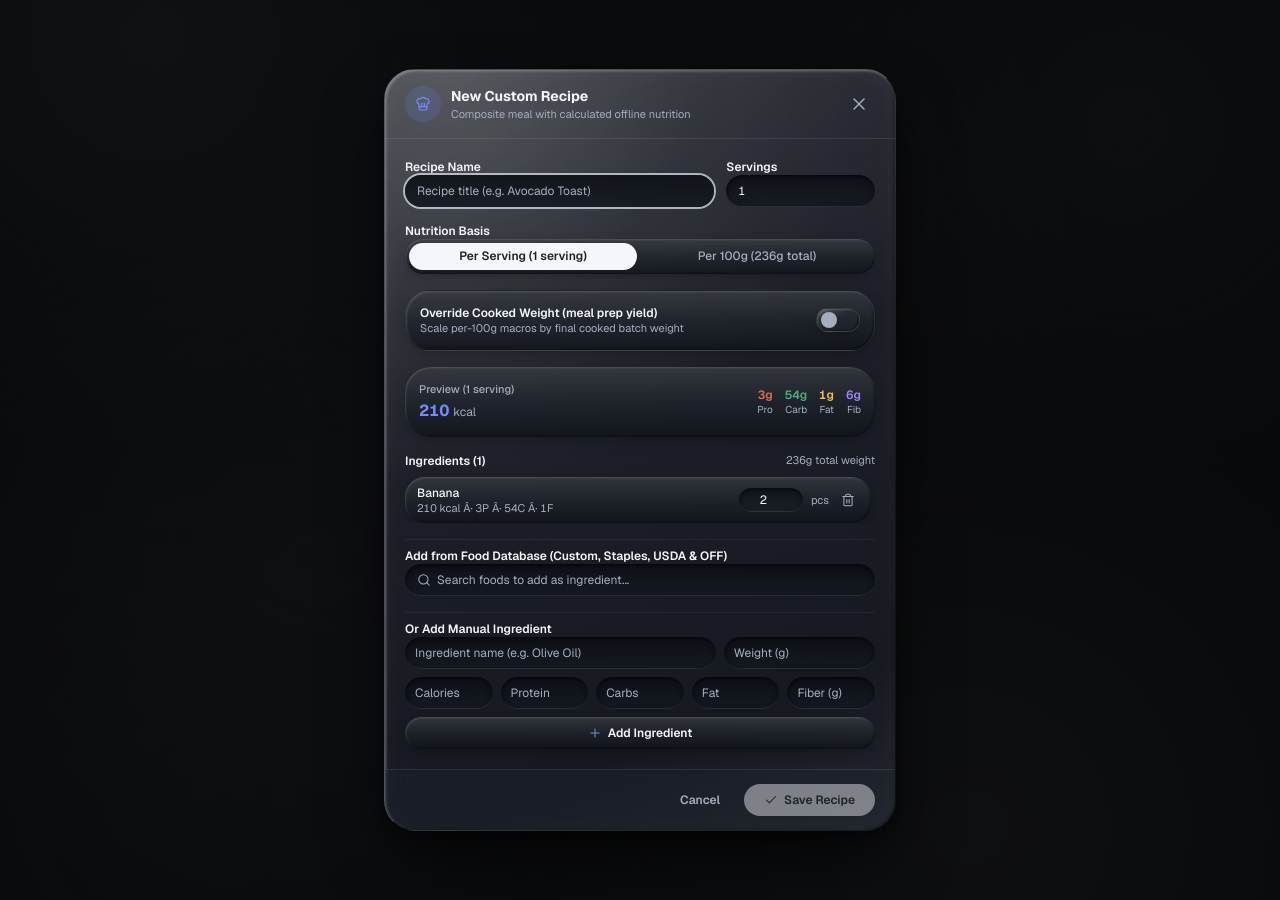
Task 6: Calendar Date Picker, Copy From Date & Multi-Select Save as Recipe › RecipeBuilderModal initialIngredients › scales seeded initialIngredients cleanly on edit and resolves staples/recipes in foodLogEntriesToRecipeIngredients
Replace the text in the number field showing "2" with "1" at point(771, 500), box [739, 488, 803, 512]
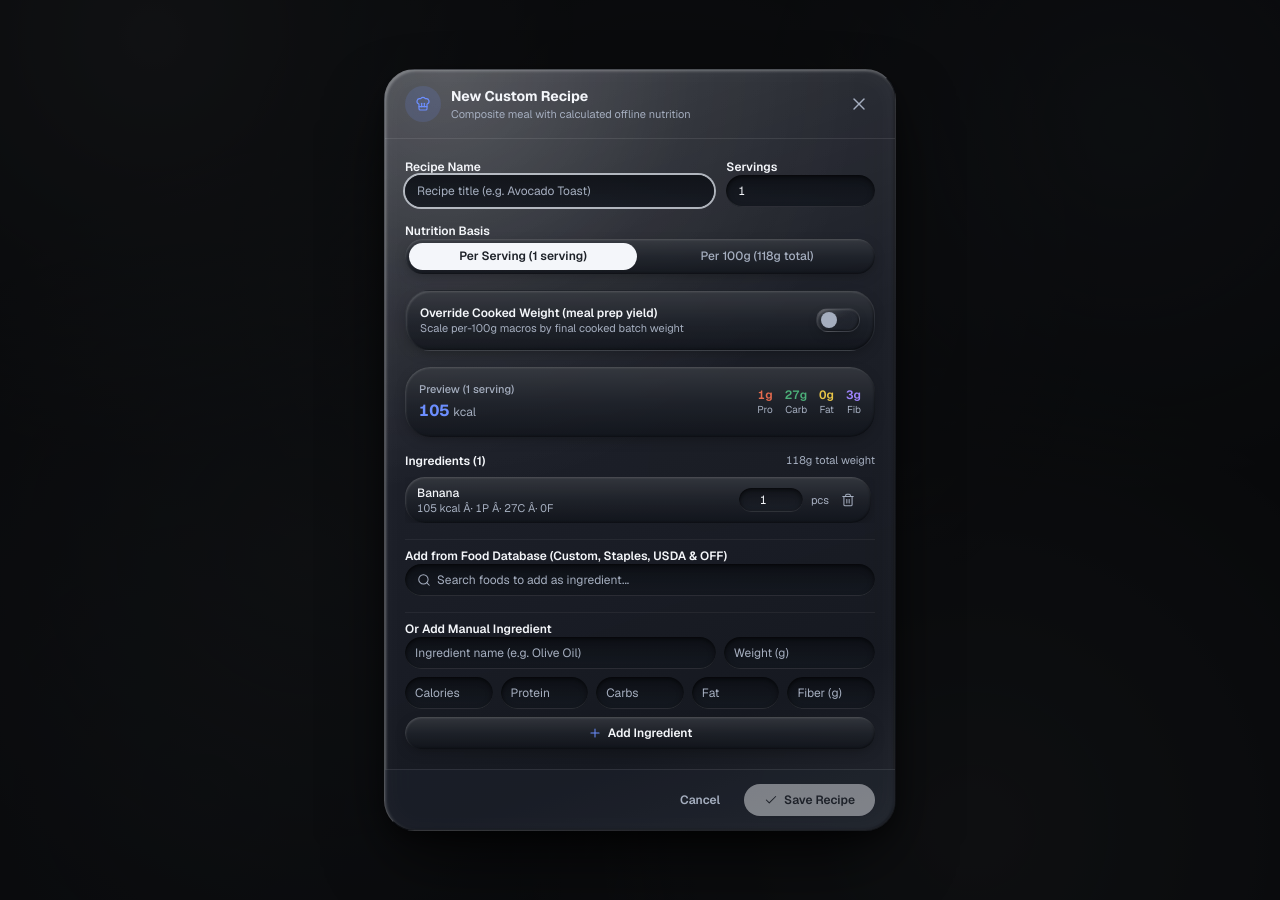
expect the text "105 kcal Â· 1P Â· 27C Â· 0F" is shown: met, box [417, 501, 553, 515]
expect the text "118g total weight" is shown: met, box [786, 453, 875, 468]
